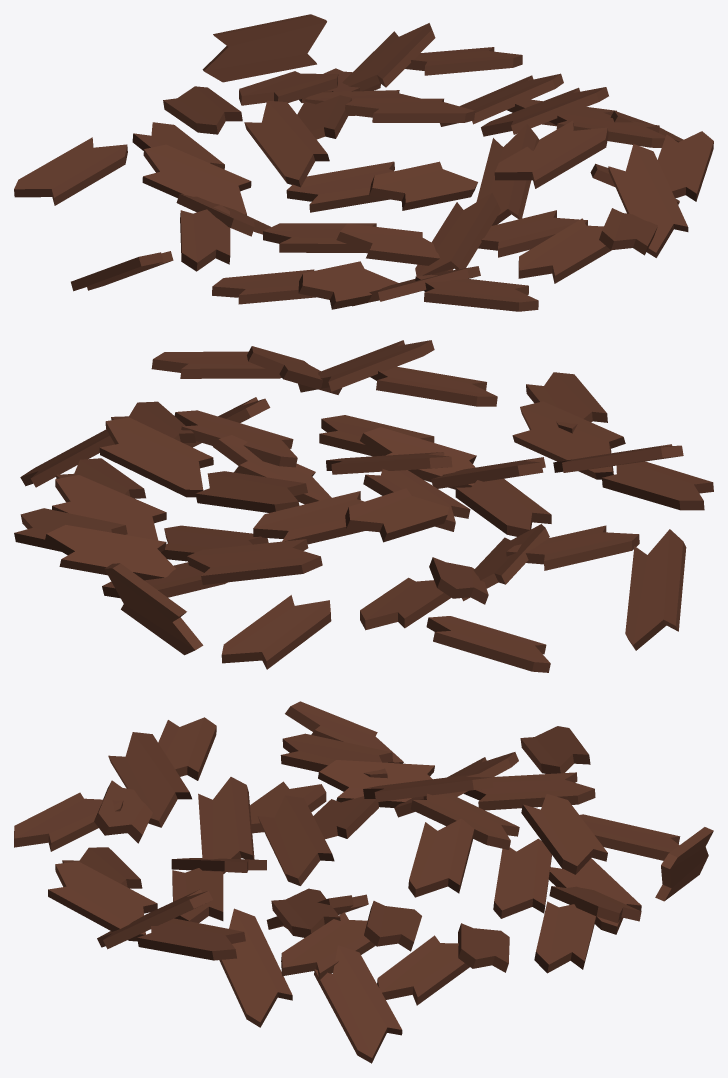
File: mulch.glb
The picture shows the model from 3 angles, top to bottom: view 1: azimuth 30°, elevation 25°; view 2: azimuth 150°, elevation 25°; view 3: azimuth 270°, elevation 25°; orthographic projection. The views are drawn at different scales.
Parts seen in each view (by area): view 1: mulch; view 2: mulch; view 3: mulch.
Boxes of the visible parts, <box> form: mulch: <box>14,14,713,311</box>; mulch: <box>14,340,713,672</box>; mulch: <box>14,701,713,1063</box>.
Size of the model in its own units: 1.03 by 0.1657 by 0.9726.
Materials: 1 (1 with a texture image).
